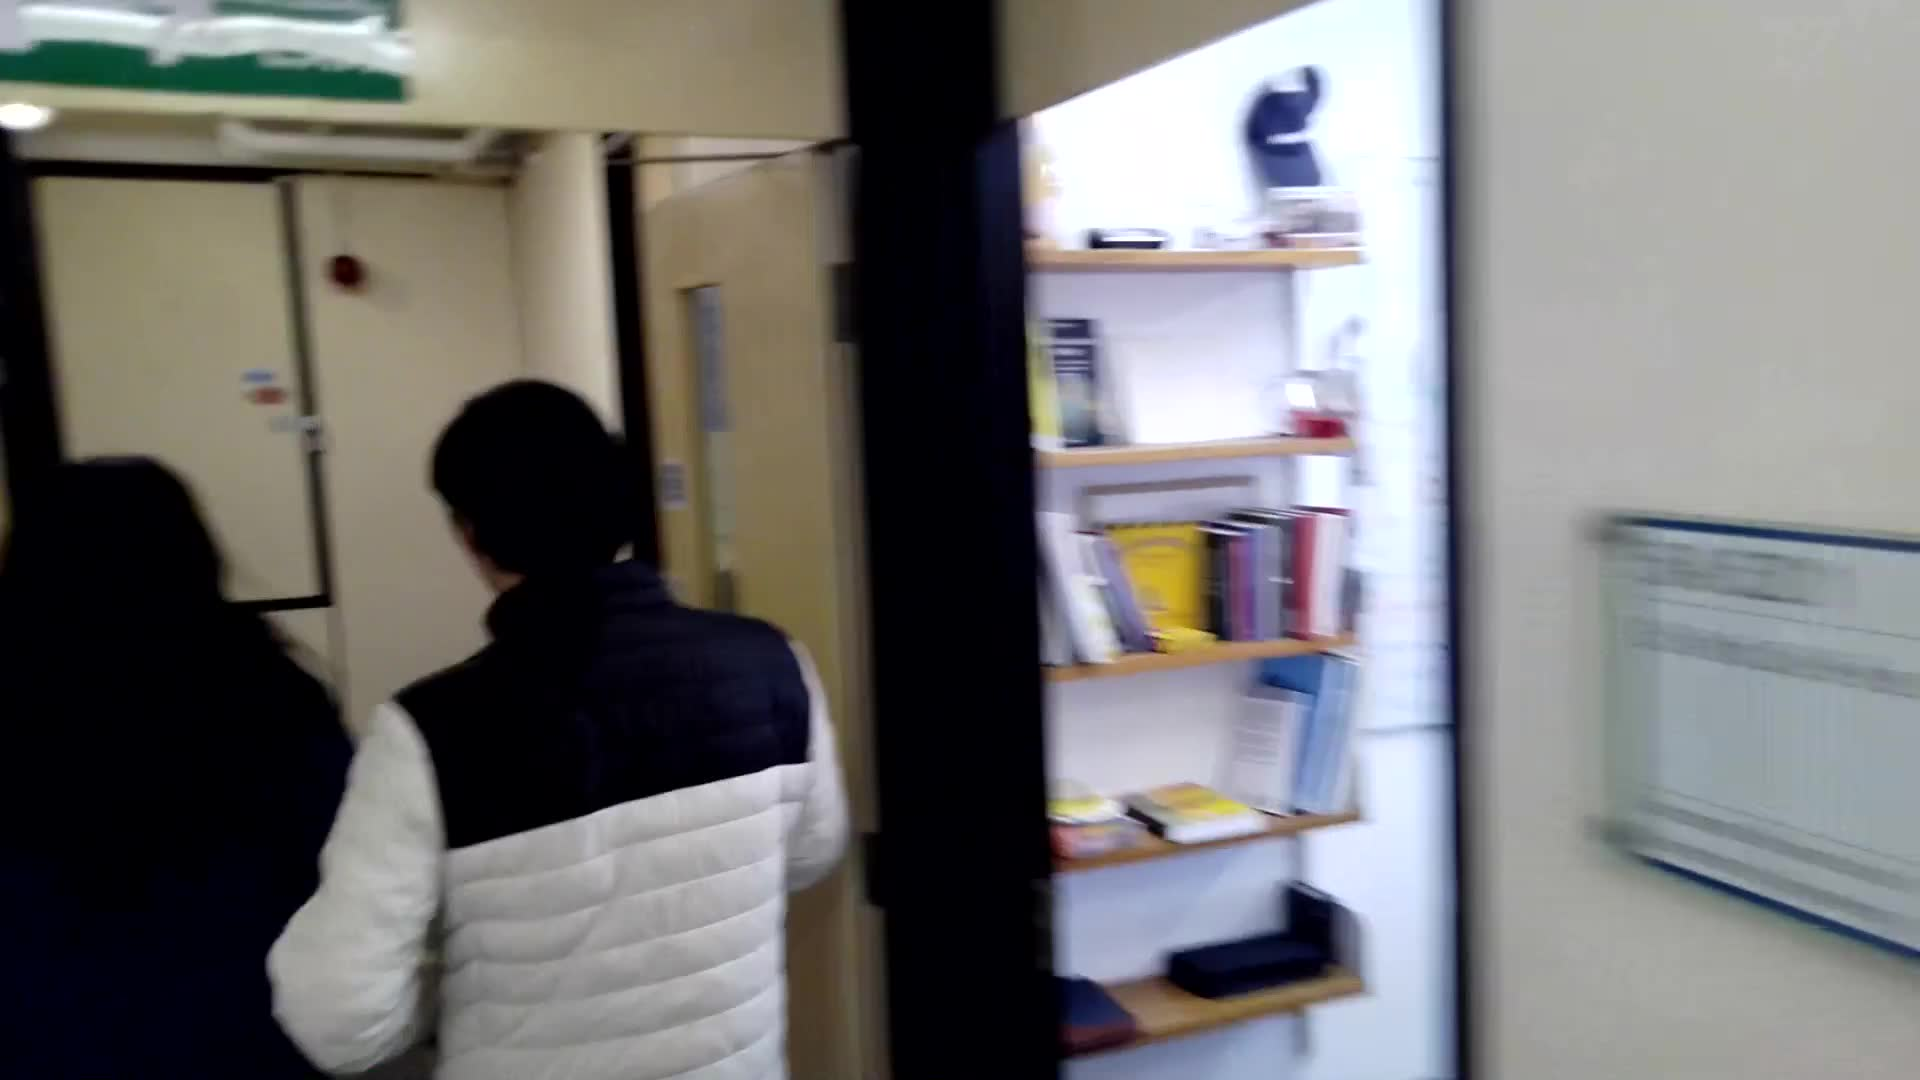Person: (342, 389, 836, 1080)
